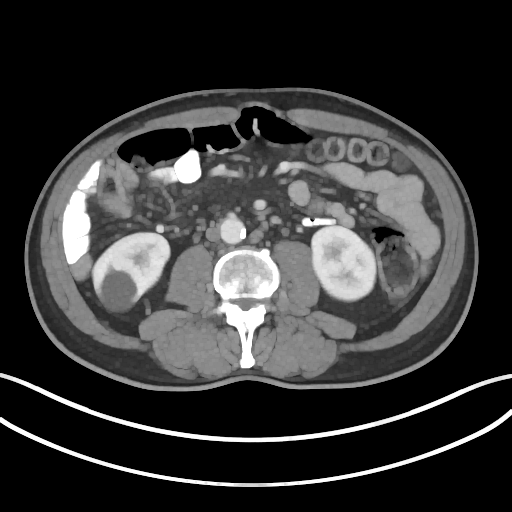Lesion: (100, 266, 139, 315)
